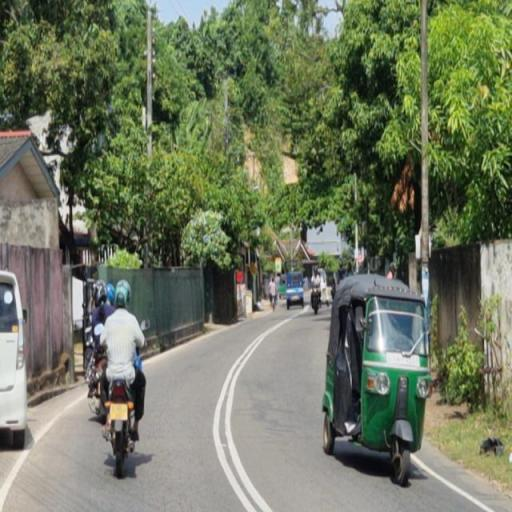double_white_line: (213, 320, 273, 512)
